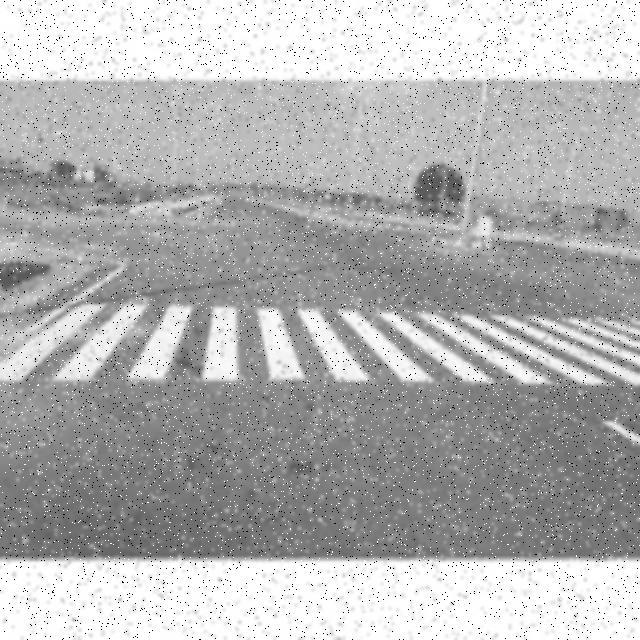crosswalk: (37, 277, 637, 441)
